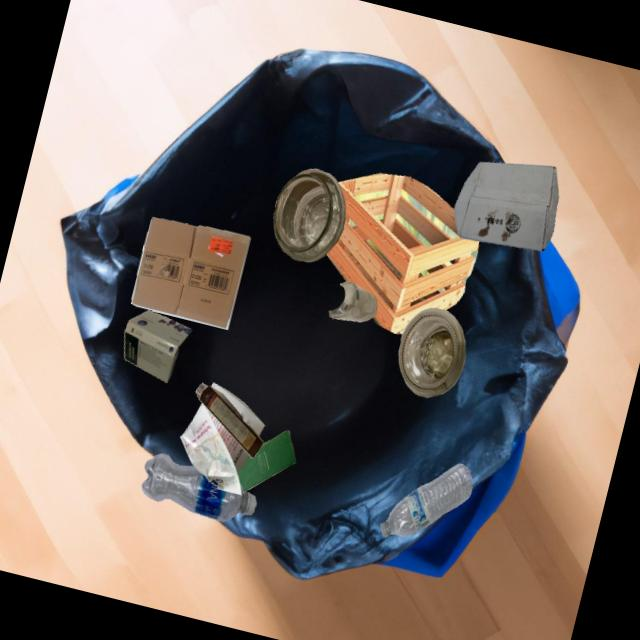cardboard: (130, 217, 250, 329), (454, 161, 558, 251), (195, 382, 263, 458), (124, 310, 191, 382)
combustible waste: (326, 173, 478, 333)
glass: (273, 168, 345, 262), (398, 307, 465, 397), (328, 281, 377, 322)
paper: (180, 402, 248, 495), (238, 429, 295, 491)
plastic: (141, 453, 256, 522), (380, 464, 472, 537)
